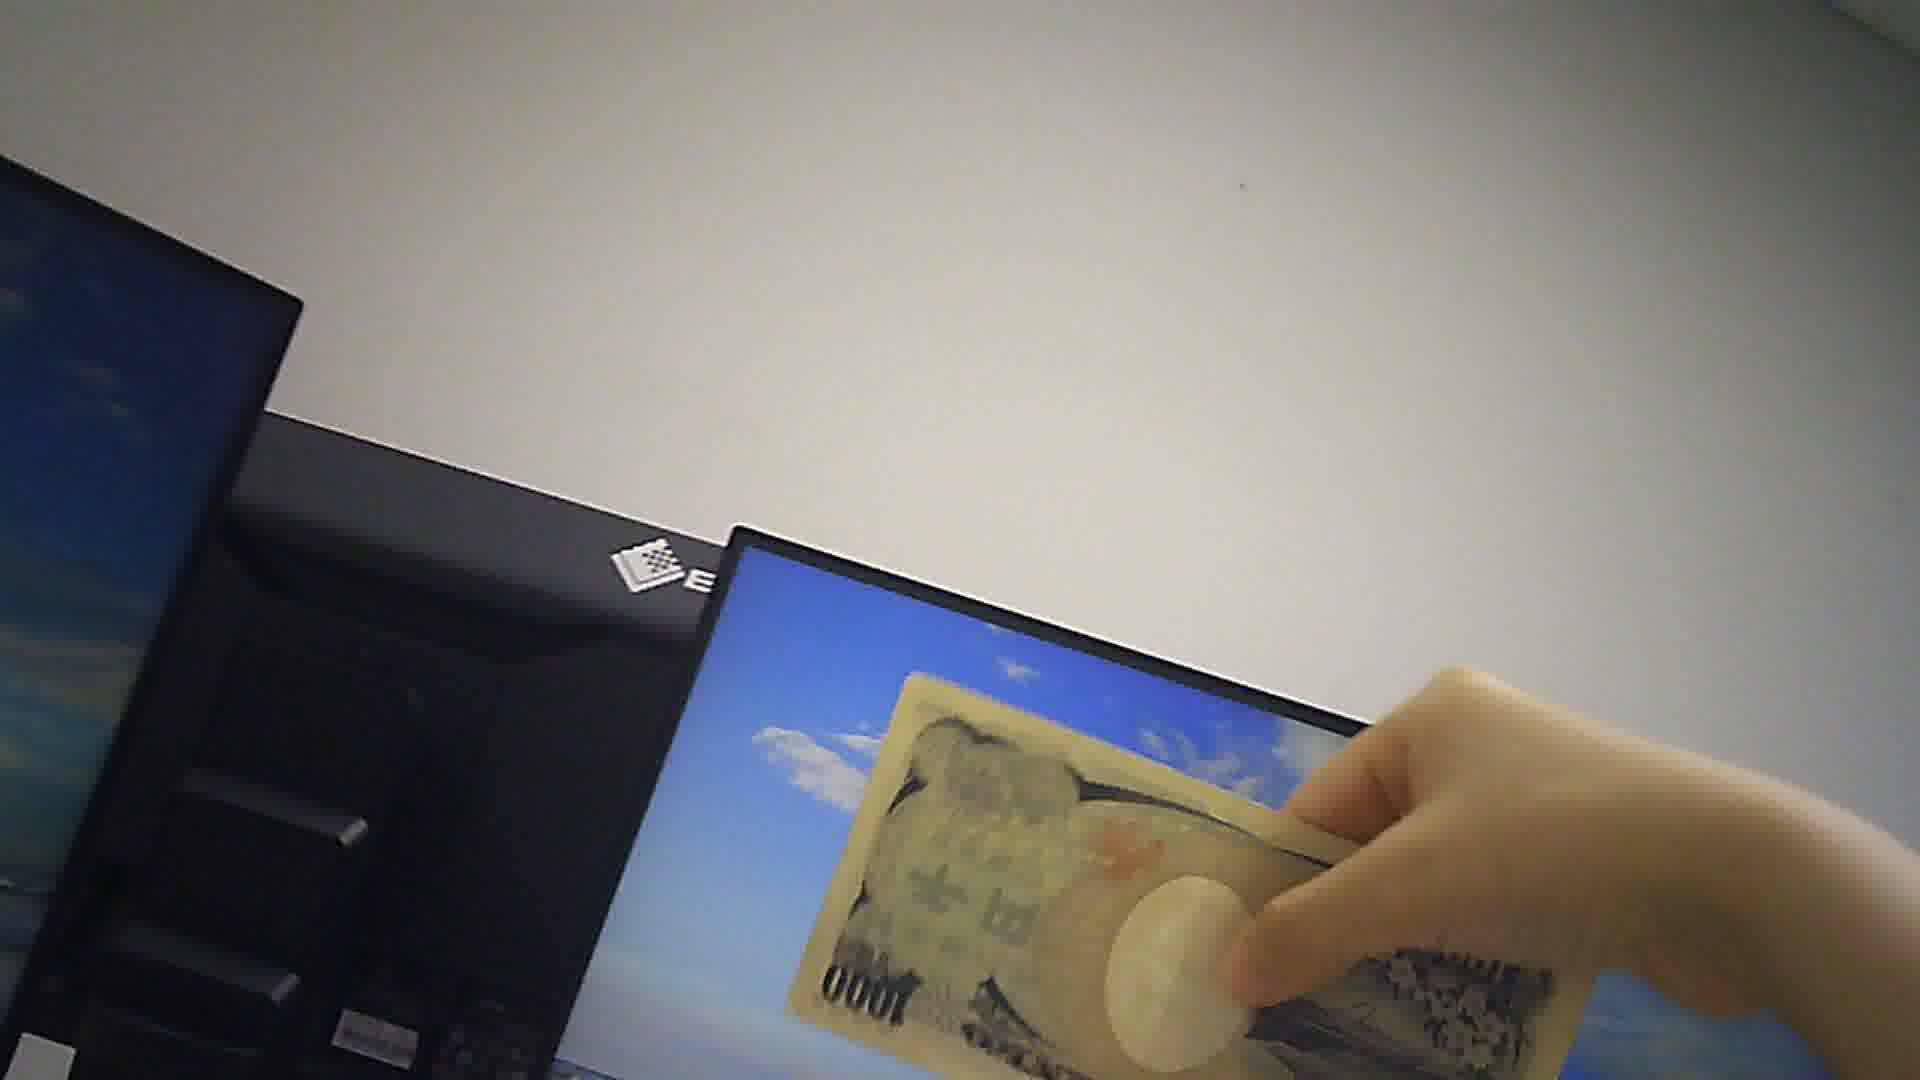1,000 Yen: (771, 665, 1600, 1079)
